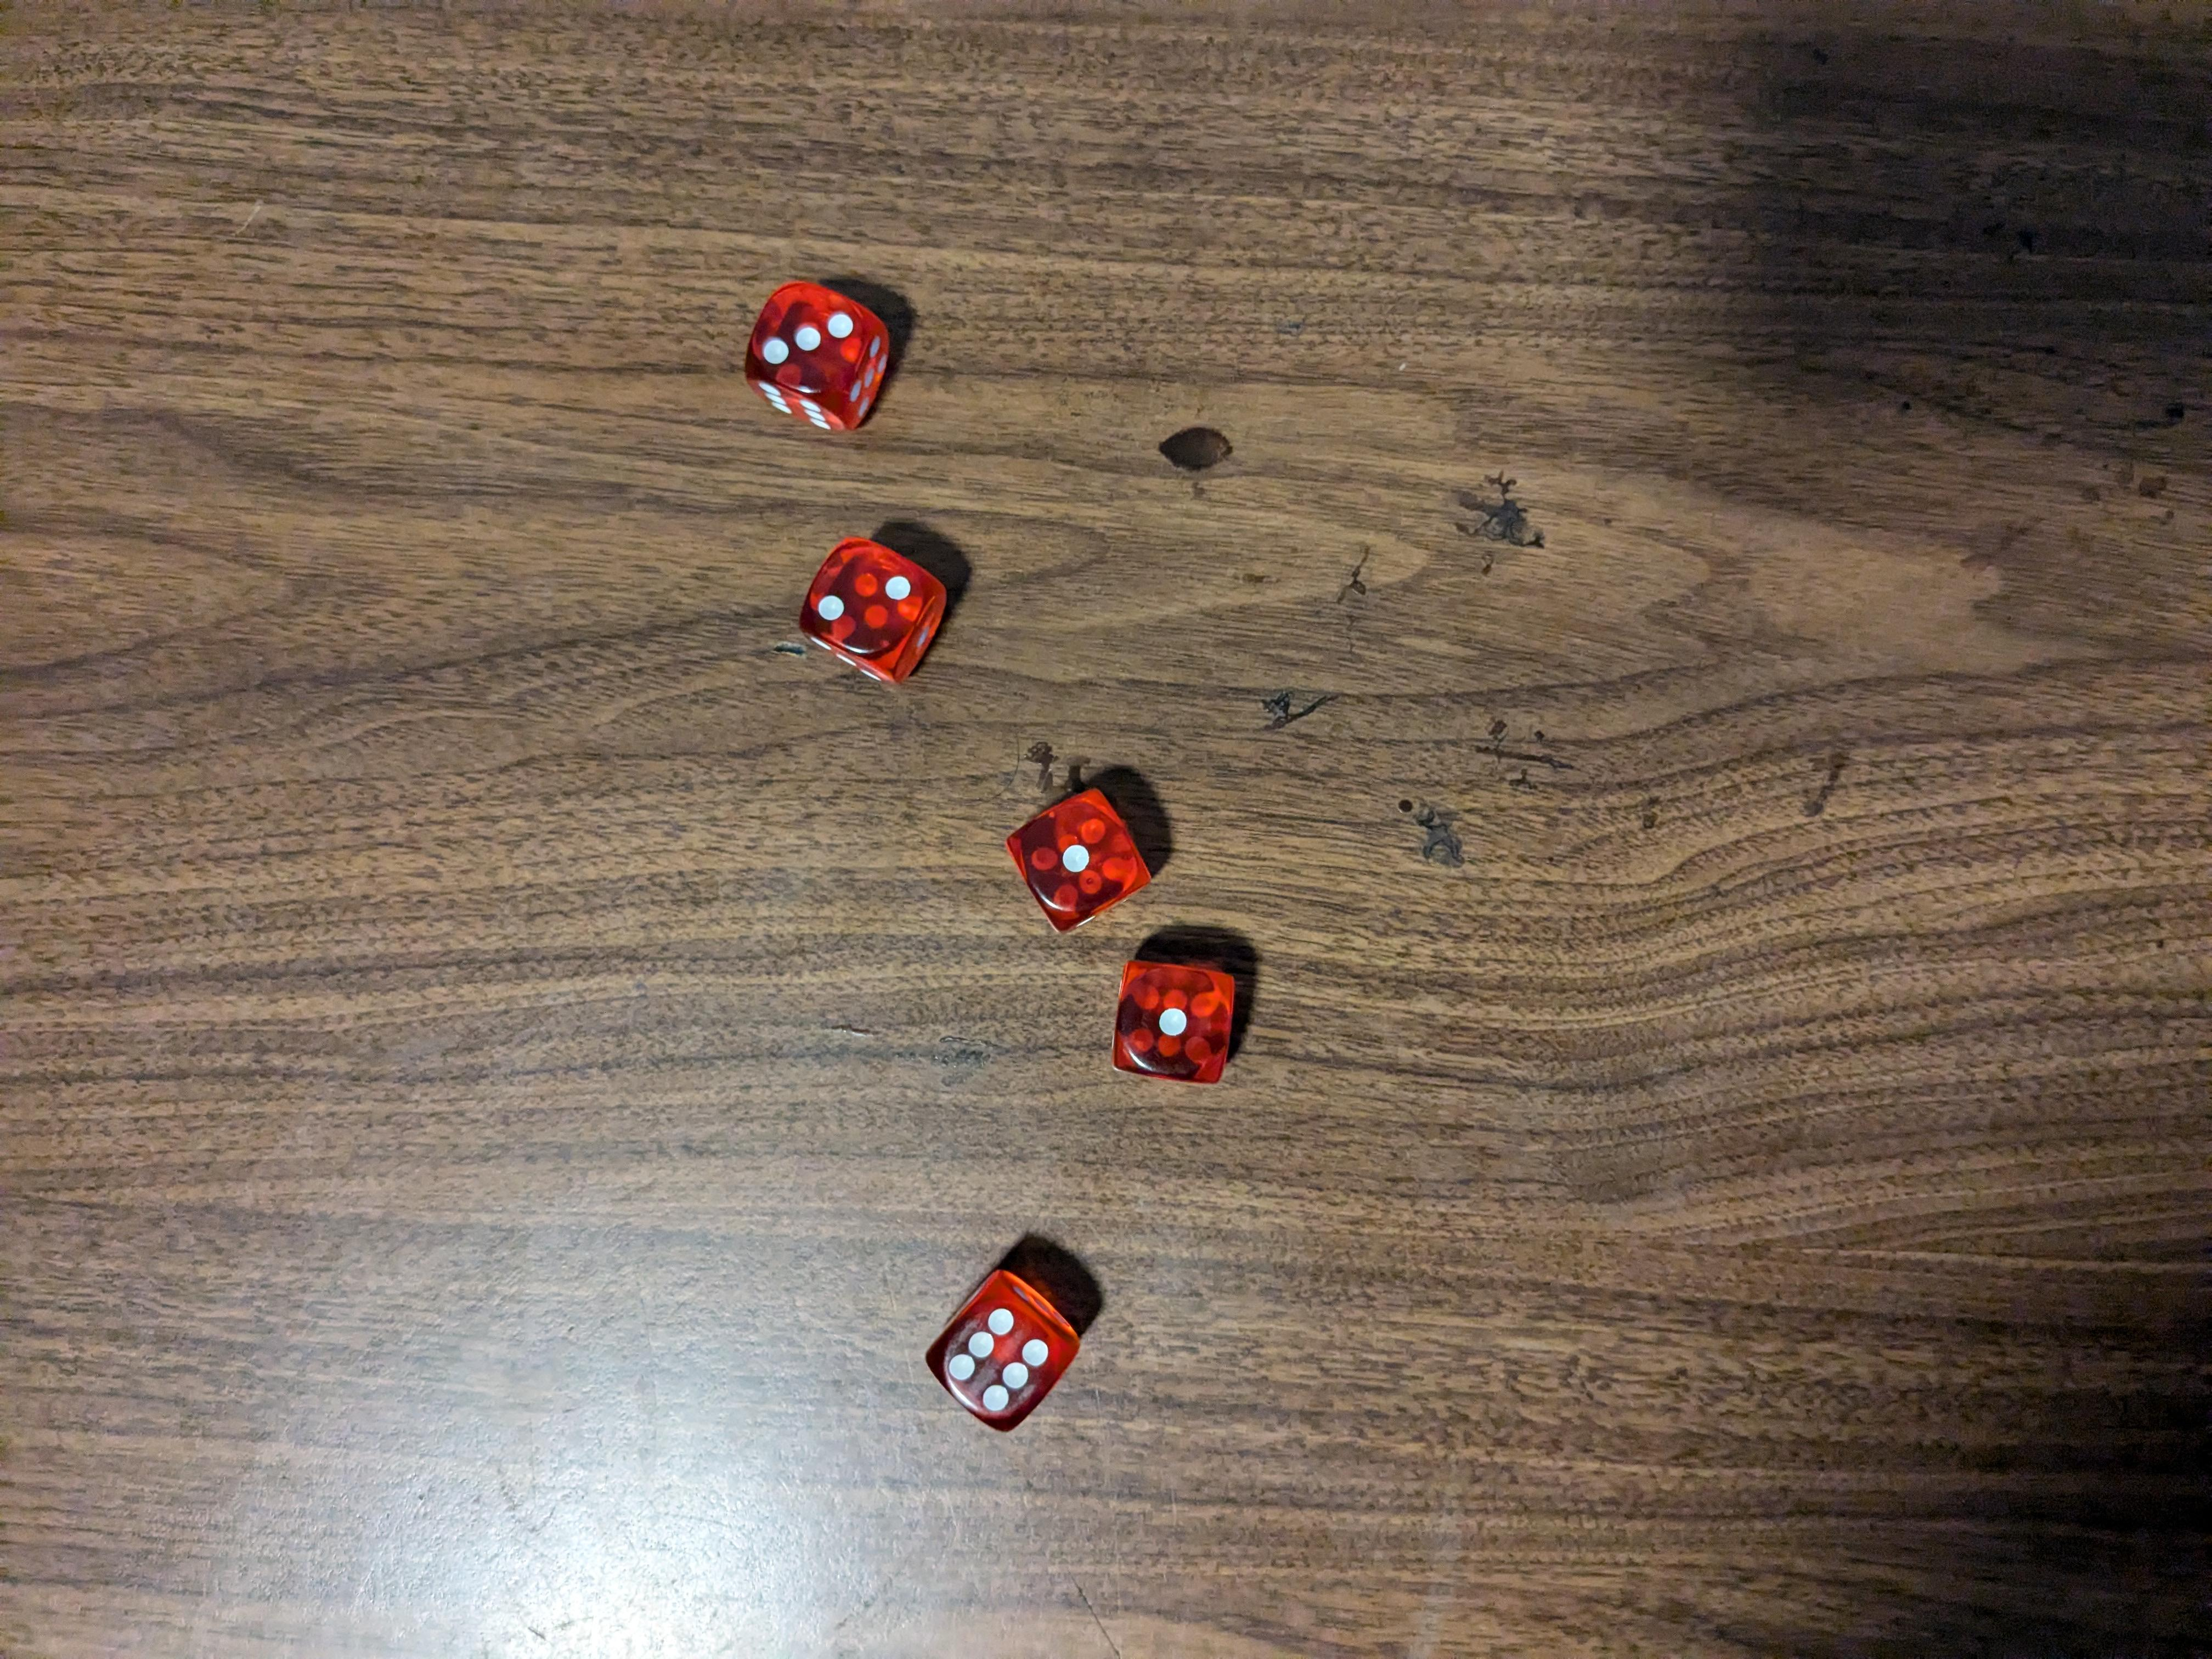one: (1007, 784, 1160, 932), (1109, 953, 1240, 1087)
six: (918, 1263, 1083, 1432)
three: (740, 279, 899, 430)
two: (792, 532, 953, 688)
